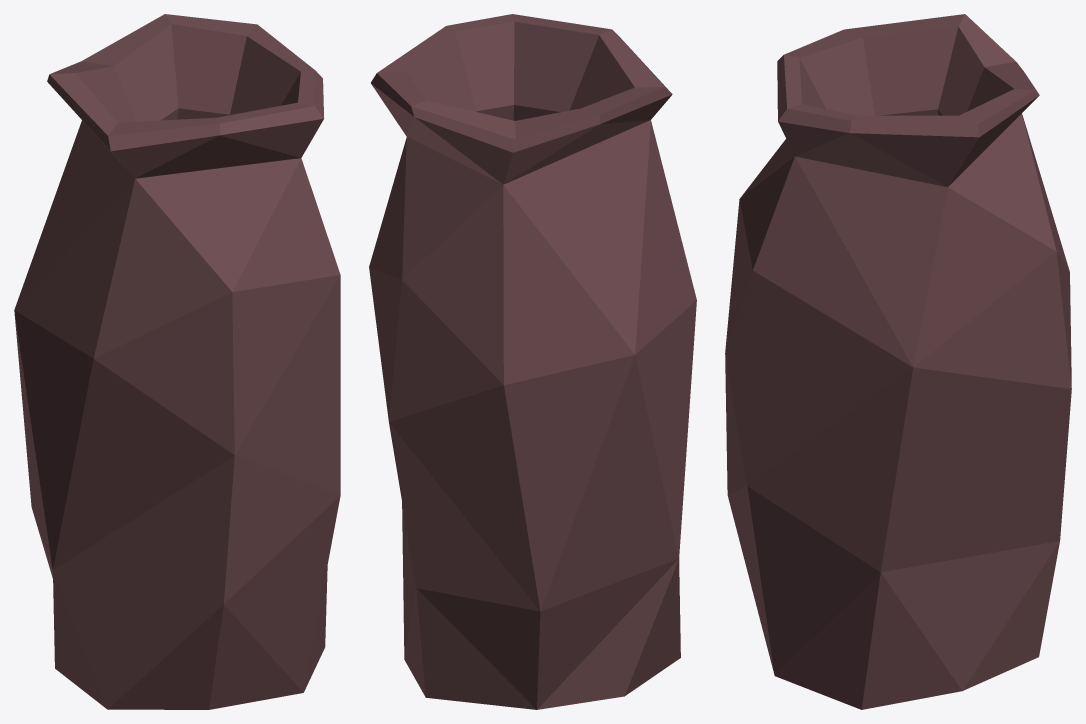
File: test_jar.fbx
The picture shows the model from 3 angles, left to right: view 1: azimuth 30°, elevation 25°; view 2: azimuth 150°, elevation 25°; view 3: azimuth 270°, elevation 25°; orthographic projection.
Parts seen in each view (by area): view 1: Cube.097; view 2: Cube.097; view 3: Cube.097.
Part boxes in pixels (bbox=[...]): Cube.097: bbox=[14, 14, 340, 709]; Cube.097: bbox=[369, 14, 696, 709]; Cube.097: bbox=[725, 14, 1071, 709].
Bounding box in the file's own units: 147 × 284 × 152.
